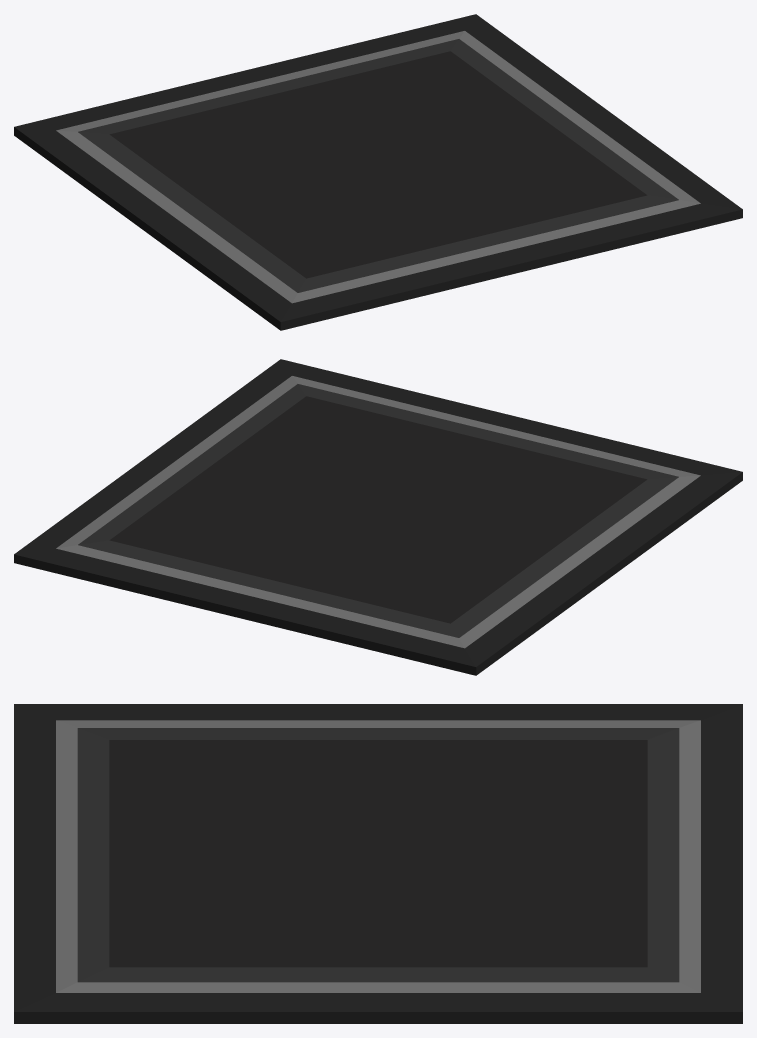
File: SM_Carpet.fbx
3 views of the same model, one above another, from view 1: azimuth 30°, elevation 25°; view 2: azimuth 150°, elevation 25°; view 3: azimuth 270°, elevation 25° (orthographic). The views are drawn at different scales.
Visible parts, largest first — view 1: Carpet_Mash_Black1; view 2: Carpet_Mash_Black1; view 3: Carpet_Mash_Black1.
Part boxes in pixels (x1=…): Carpet_Mash_Black1: x1=14, y1=14, x2=742, y2=330; Carpet_Mash_Black1: x1=14, y1=359, x2=742, y2=675; Carpet_Mash_Black1: x1=14, y1=704, x2=742, y2=1023.
Bounding box in the file's own units: 2 × 0.0493 × 2.
